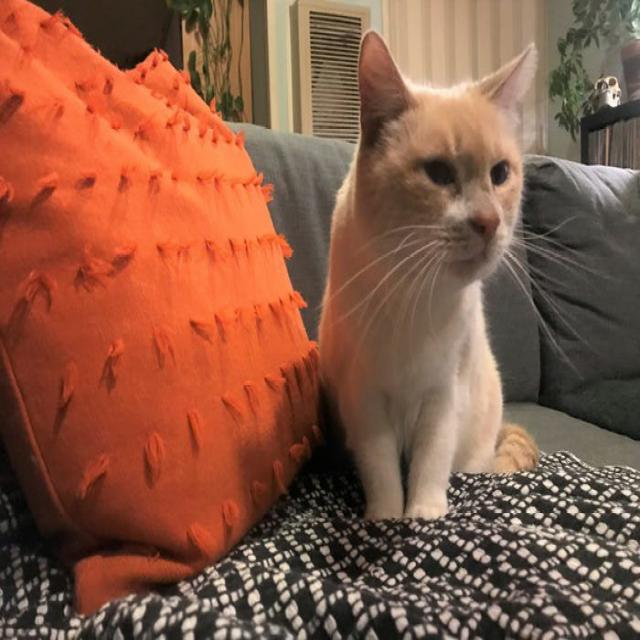cat: (318, 30, 536, 517)
